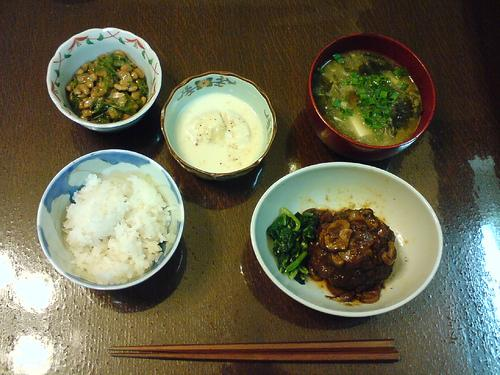rice: (62, 173, 171, 283)
